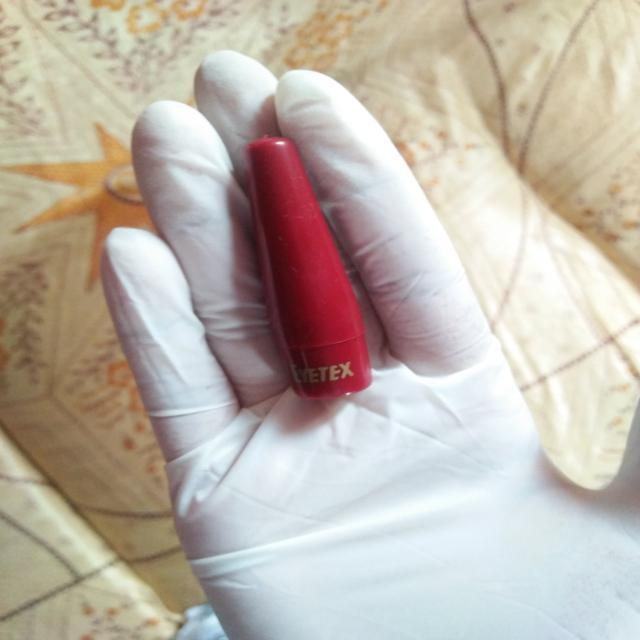glove_hand: (97, 44, 637, 637)
